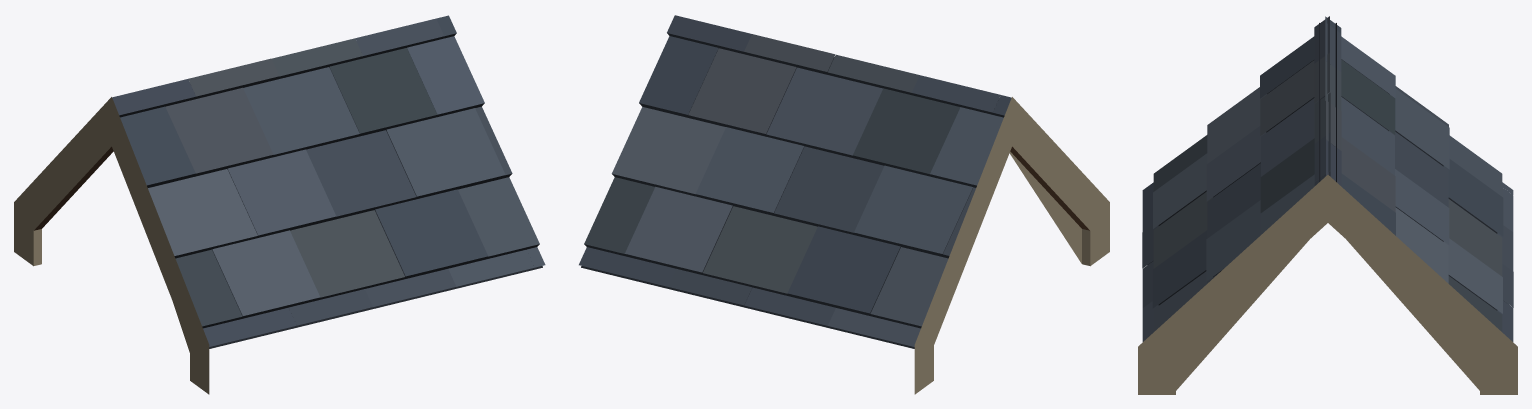
The model's file is roof-high-gable-top-slate.glb.
The picture shows the model from 3 angles, left to right: view 1: azimuth 30°, elevation 25°; view 2: azimuth 150°, elevation 25°; view 3: azimuth 270°, elevation 25°; orthographic projection. The views are drawn at different scales.
Visible parts, largest first — view 1: roof-high-gable-top-slate; view 2: roof-high-gable-top-slate; view 3: roof-high-gable-top-slate.
Boxes of the visible parts, <box> form: roof-high-gable-top-slate: <box>14,15,545,394</box>; roof-high-gable-top-slate: <box>579,15,1109,394</box>; roof-high-gable-top-slate: <box>1138,16,1517,394</box>.
Bounding box in the file's own units: 1 × 0.6407 × 1.
